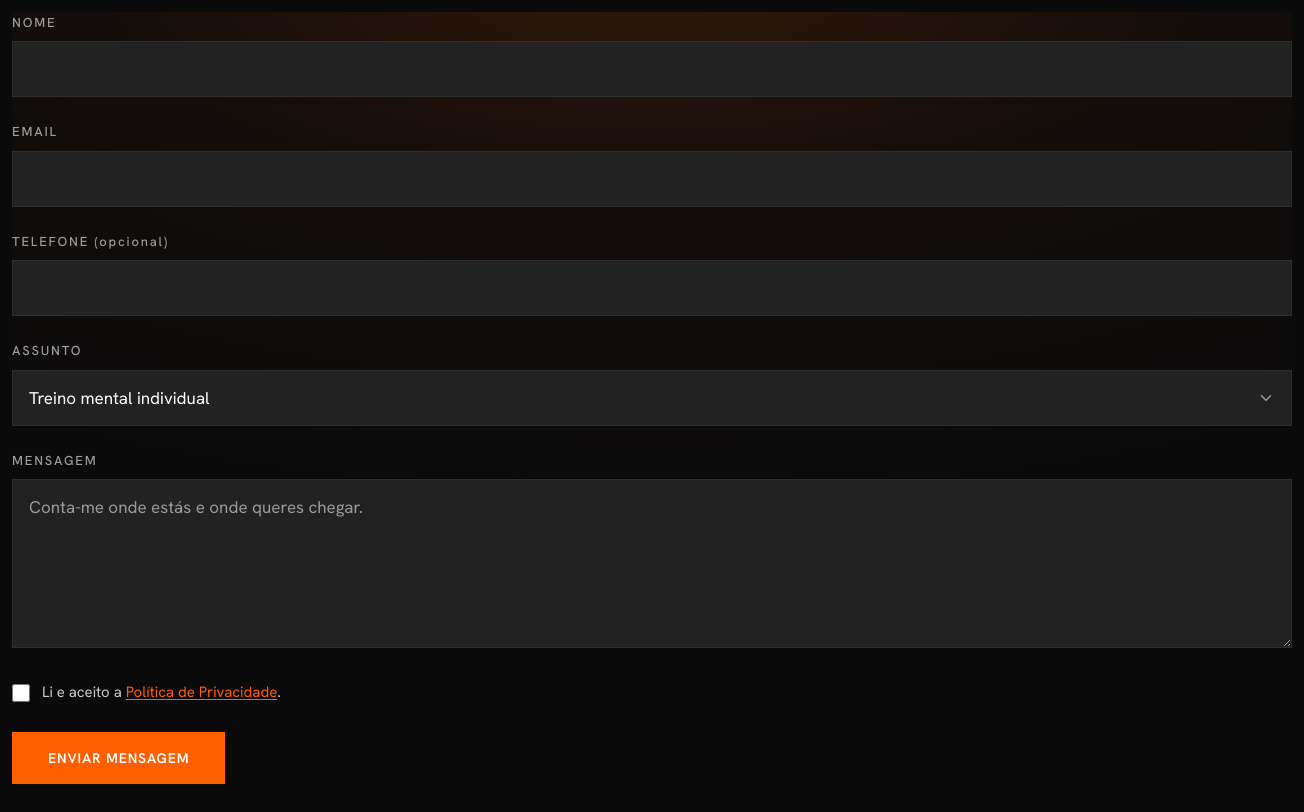
Test: ContactForm › shows validation errors when submitted empty
What coordinates should you click on to do the following:
click the button "Enviar mensagem"
I would click on:
 (119, 758)
Its box is [12,732,225,784].
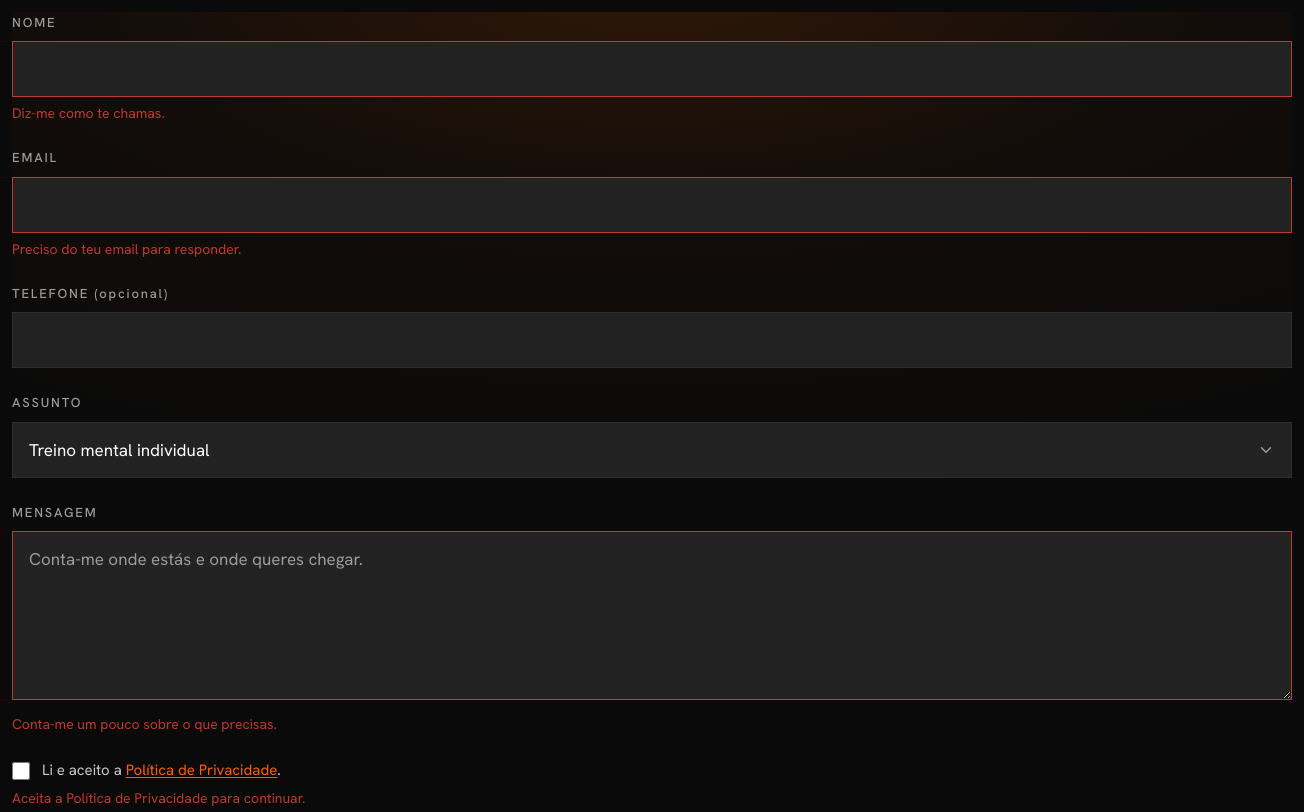
Check: the text "Diz-me como te chamas." is shown, box [12,104,165,122]
Check: the text "Preciso do teu email para responder." is shown, box [12,240,241,258]
Check: the text "Conta-me um pouco sobre o que precisas." is shown, box [12,715,277,733]
